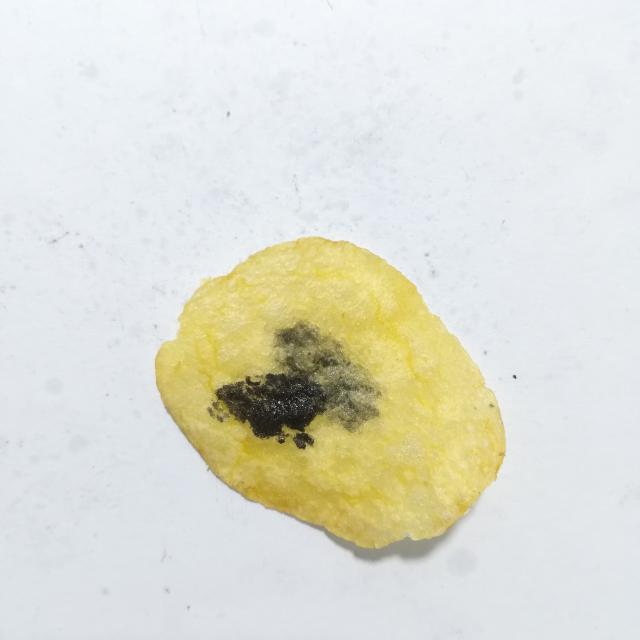chip: (155, 237, 505, 548)
damaged: (216, 373, 326, 449)
semi-damaged: (271, 322, 380, 432), (212, 401, 230, 422), (207, 407, 216, 418)
